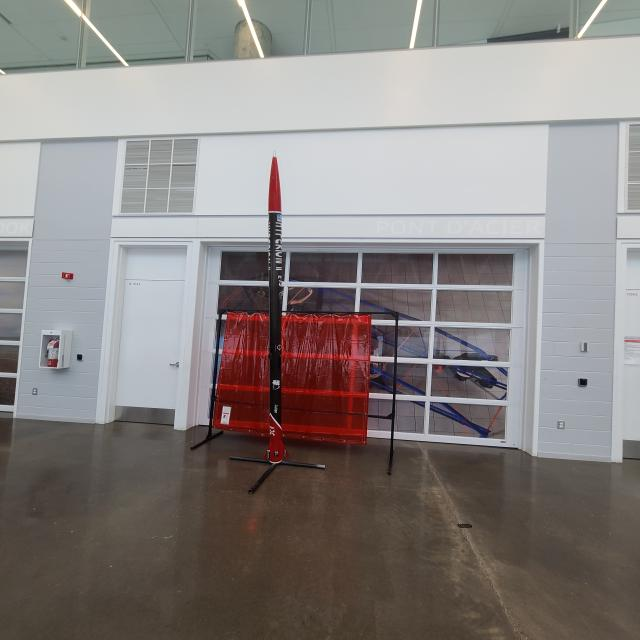Rocket: (263, 150, 289, 462)
